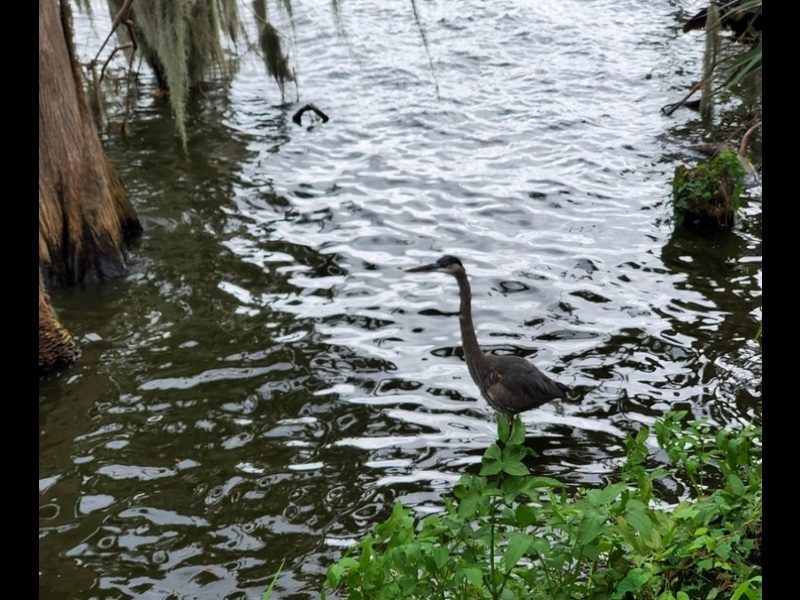heron: (405, 252, 572, 454)
